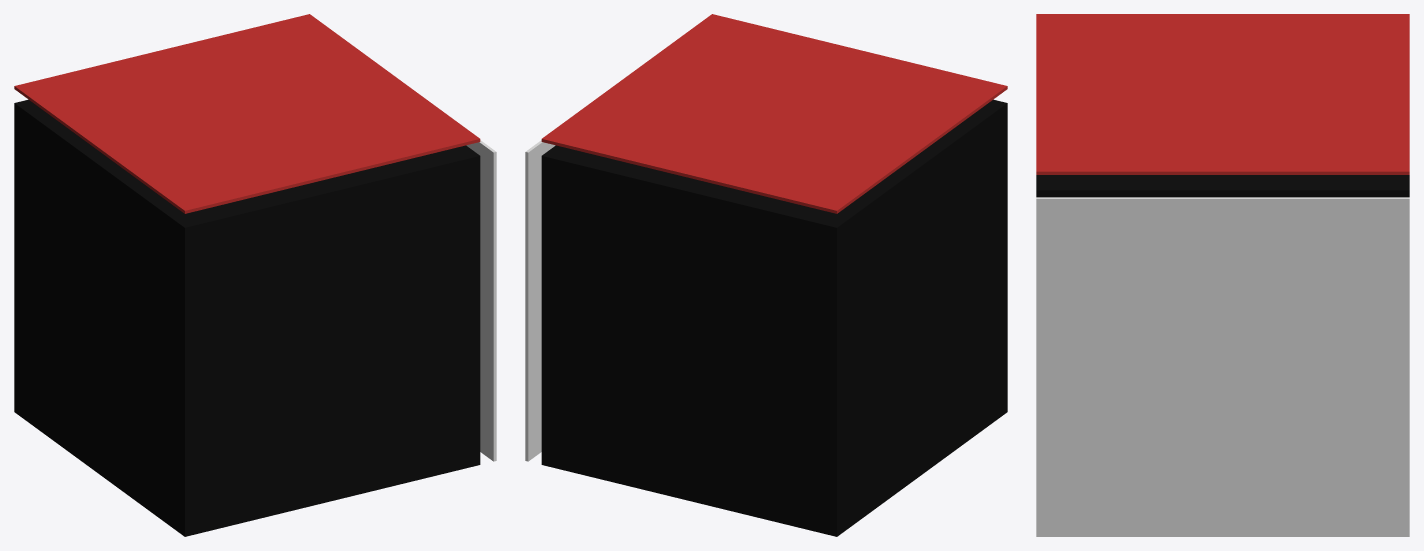
3 renders of one model, left to right at view 1: azimuth 30°, elevation 25°; view 2: azimuth 150°, elevation 25°; view 3: azimuth 270°, elevation 25°, orthographic. The views are drawn at different scales.
Visible parts, largest first — view 1: Cube, red-1, white-3; view 2: Cube, red-1, white-3; view 3: white-3, red-1, Cube.
Boxes of the visible parts, x1,y1,x2,y2 form: Cube: (14,99,480,536); red-1: (14,14,480,213); white-3: (466,140,496,461); Cube: (541,99,1007,536); red-1: (541,14,1007,213); white-3: (525,140,555,461); white-3: (1036,197,1409,536); red-1: (1036,14,1409,174); Cube: (1036,175,1409,197).
Size of the model in its own units: 2.11 by 2.11 by 2.
